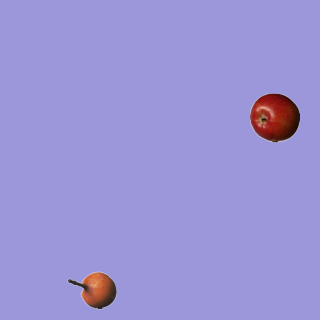Apple Braeburn: (249, 92, 299, 142)
Granadilla: (66, 265, 116, 315)
